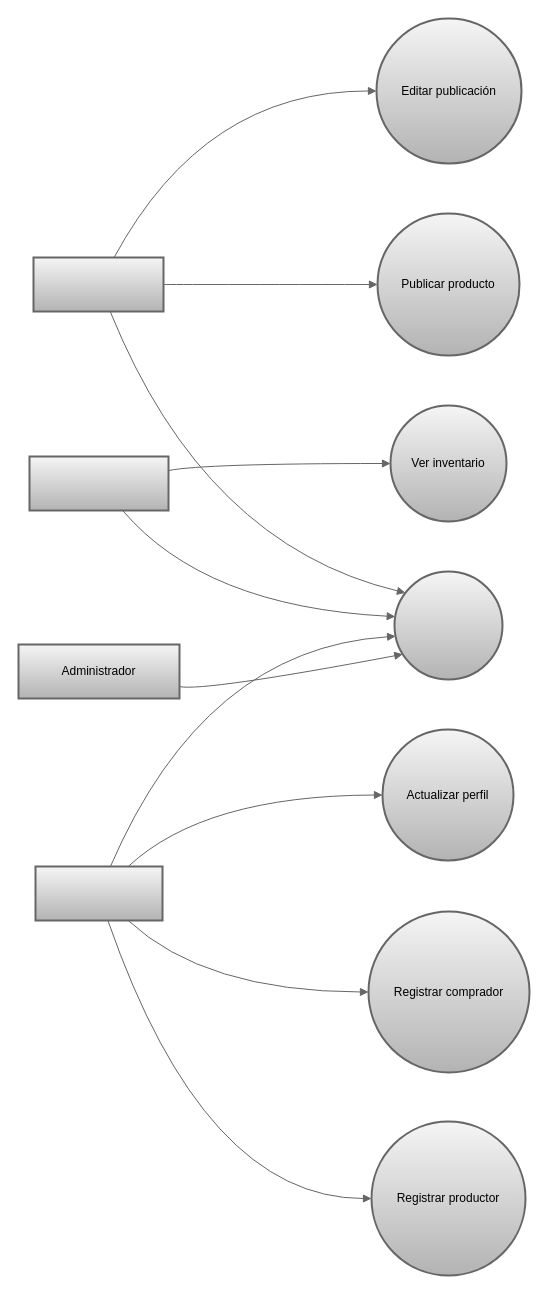
The diagram is 547 pixels wide and 1293 high, and some of its shapes have lost their labels. Here are the shapes that lost their labels. From the top down, the centre of each, then its label:
pixel 98 284: Productor
pixel 98 483: Comprador
pixel 448 625: Iniciar sesión
pixel 98 893: Operador
